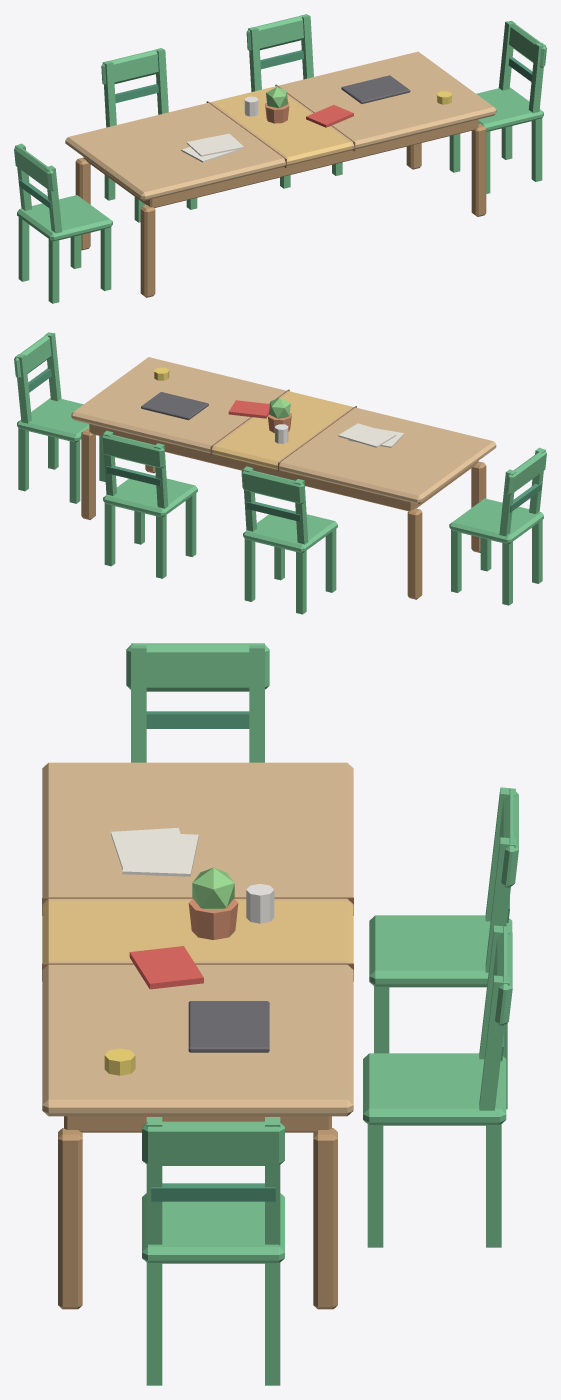
Rendered from prop_planning_table_01.glb.
3 renders of one model, top to bottom at view 1: azimuth 30°, elevation 25°; view 2: azimuth 150°, elevation 25°; view 3: azimuth 270°, elevation 25°, orthographic. The views are drawn at different scales.
Parts seen in each view (by area): view 1: prop_planning_table_01_body; view 2: prop_planning_table_01_body; view 3: prop_planning_table_01_body.
Boxes of the visible parts, x1,y1,x2,y2 form: prop_planning_table_01_body: (14,14,546,303); prop_planning_table_01_body: (14,332,546,614); prop_planning_table_01_body: (42,643,518,1385).
Size of the model in its own units: 3.68 by 0.99 by 1.53.
